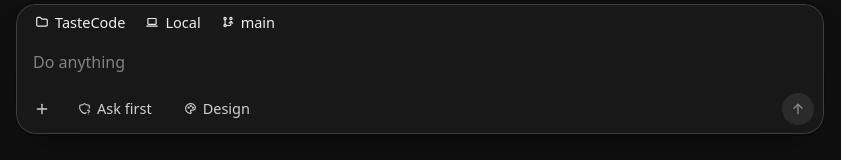
Test: Composer loading controls › opens a non-interactive resource frame before the picker chunk arrives
The image size is (841, 160).
Later steps or results of the test are not shown.
In the text box named "Message": (420, 64) x1=17 y1=40 x2=823 y2=88, type "/"
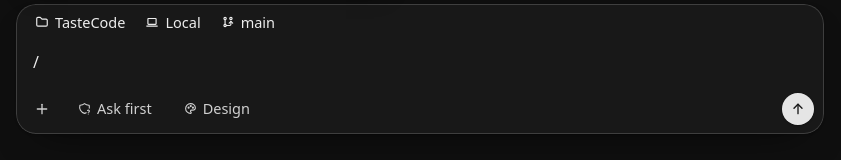
Expected: the text box named "Message" has attribute aria-controls="composer-resource-list"
Press Tab in the text box named "Message", box x1=17 y1=40 x2=823 y2=88
Press Escape in the text box named "Message", box x1=17 y1=40 x2=823 y2=88
Replace the text in the text box named "Message" with "$": (420, 64) x1=17 y1=40 x2=823 y2=88
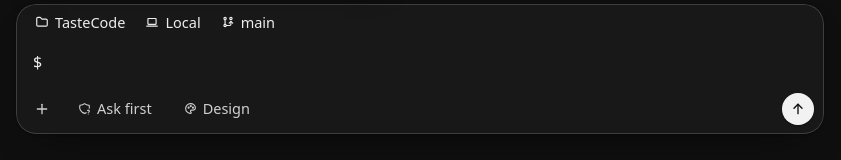
Expected: the text box named "Message" has attribute aria-controls="composer-resource-list"
Press Tab in the text box named "Message", box x1=17 y1=40 x2=823 y2=88
Press Escape in the text box named "Message", box x1=17 y1=40 x2=823 y2=88
Replace the text in the text box named "Message" with "@": (420, 64) x1=17 y1=40 x2=823 y2=88
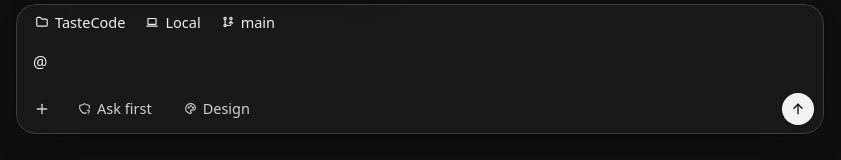
Expected: the text box named "Message" has attribute aria-controls="composer-resource-list", x1=17 y1=40 x2=823 y2=88
